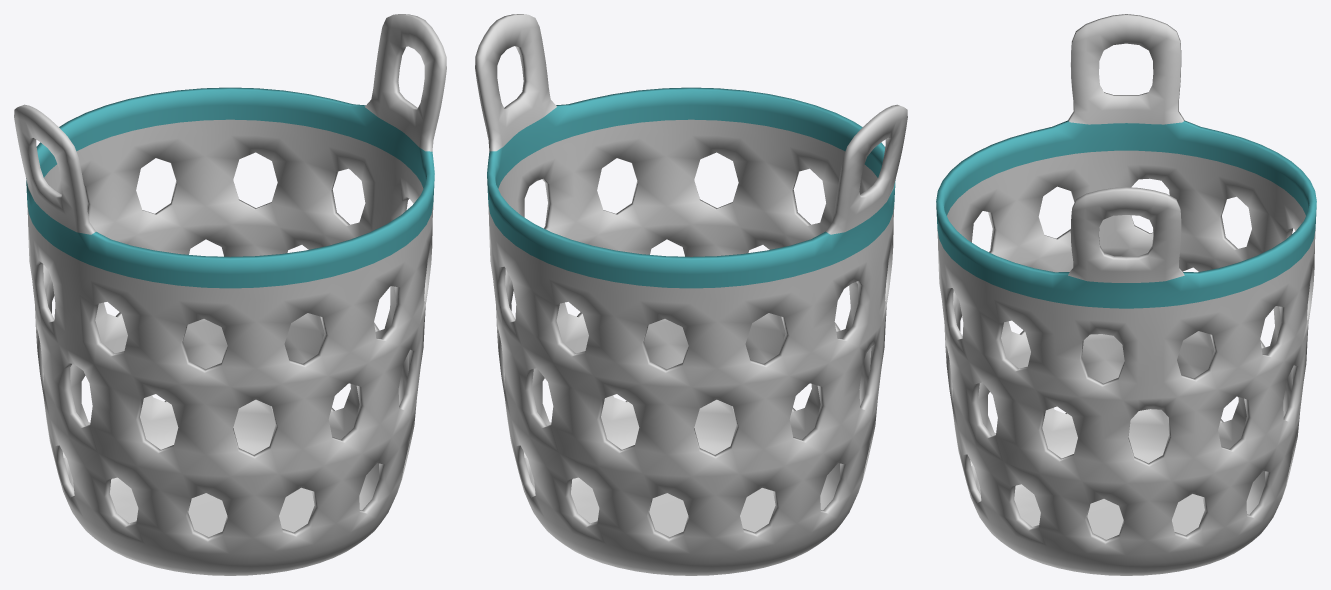
The model's file is Keranjang baju kotor.fbx.
3 renders of one model, left to right at view 1: azimuth 30°, elevation 25°; view 2: azimuth 150°, elevation 25°; view 3: azimuth 270°, elevation 25°, orthographic. The views are drawn at different scales.
Visible parts, largest first — view 1: Cylinder.002; view 2: Cylinder.002; view 3: Cylinder.002.
Part boxes in pixels (x1,y1,x2,y2): Cylinder.002: (14, 14, 446, 575); Cylinder.002: (475, 14, 907, 575); Cylinder.002: (936, 14, 1316, 575).
Bounding box in the file's own units: 82.24 × 91.08 × 74.75.
